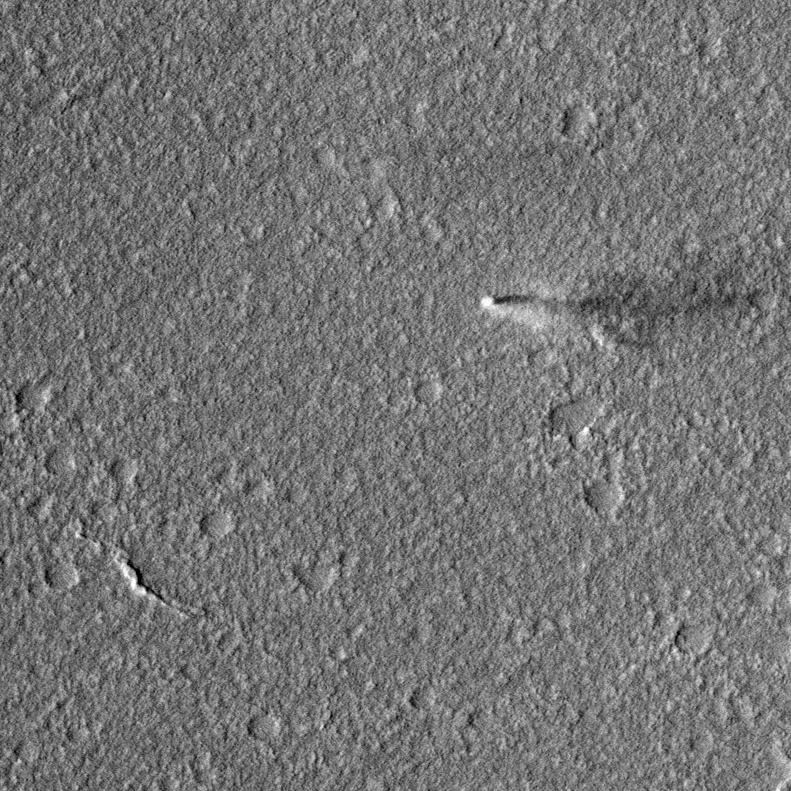dust_devil: (477, 266, 681, 359)
